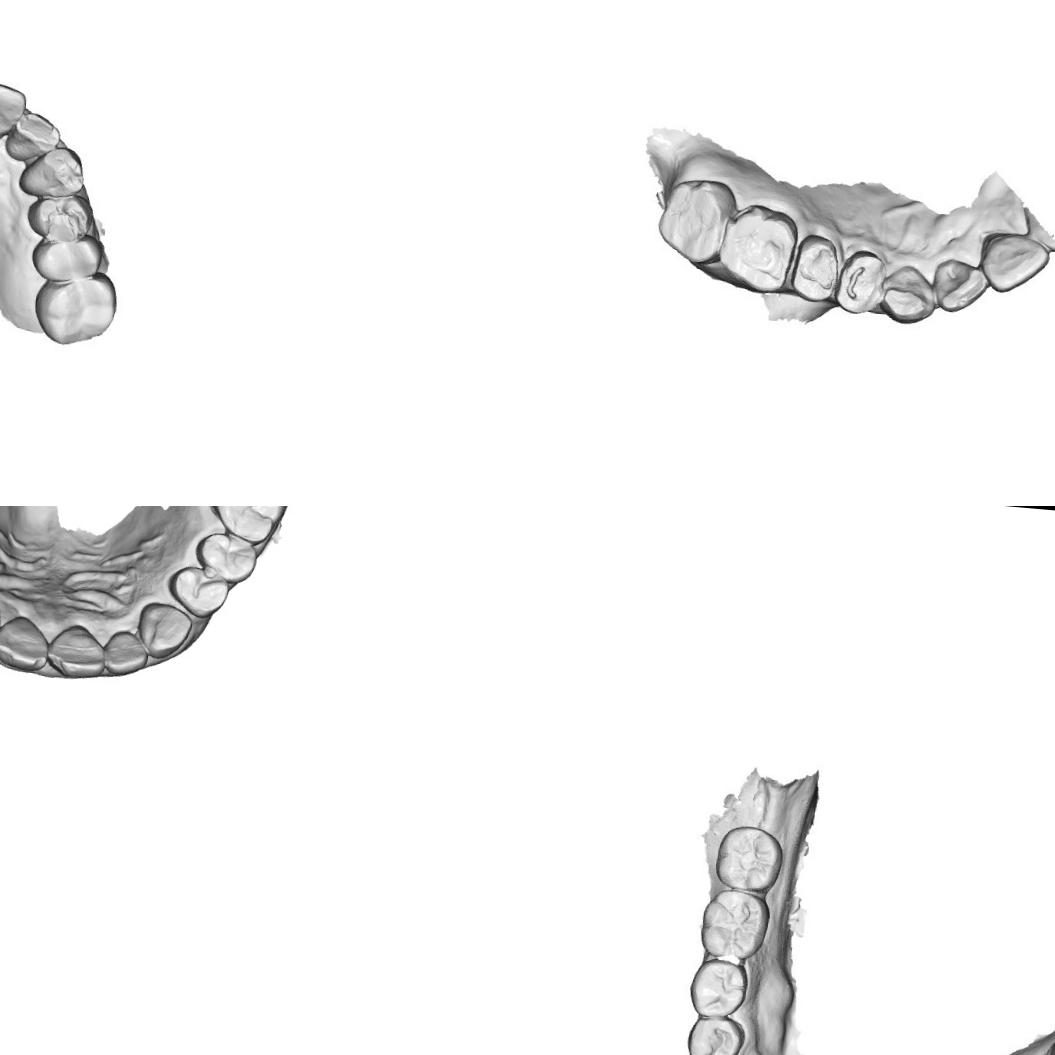canine: (134, 599, 194, 661), (878, 266, 936, 325), (20, 152, 80, 194)
incisor: (977, 228, 1046, 296), (43, 620, 108, 682), (933, 259, 990, 317), (0, 612, 51, 673), (10, 106, 62, 162), (100, 627, 150, 680), (0, 76, 27, 143)
molar: (715, 206, 793, 291), (658, 175, 730, 259), (696, 890, 765, 962), (39, 270, 109, 340), (712, 822, 782, 892), (203, 506, 288, 547)
premolar: (686, 956, 746, 1022), (166, 562, 232, 621), (191, 530, 259, 585), (34, 233, 104, 285), (788, 236, 842, 298), (834, 252, 884, 313), (682, 1012, 750, 1055), (26, 196, 90, 238)
